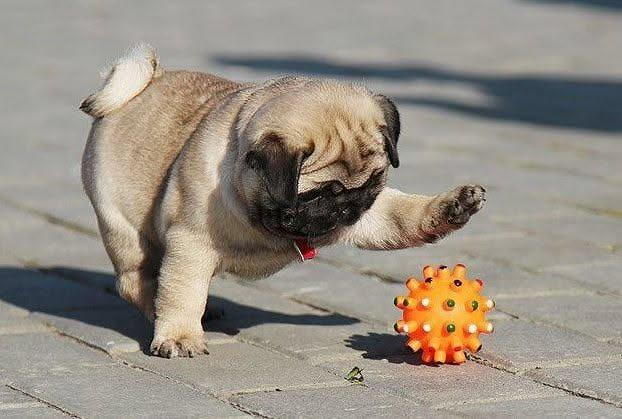non-dog: (394, 264, 495, 365)
puppy-dog: (80, 43, 490, 361)
